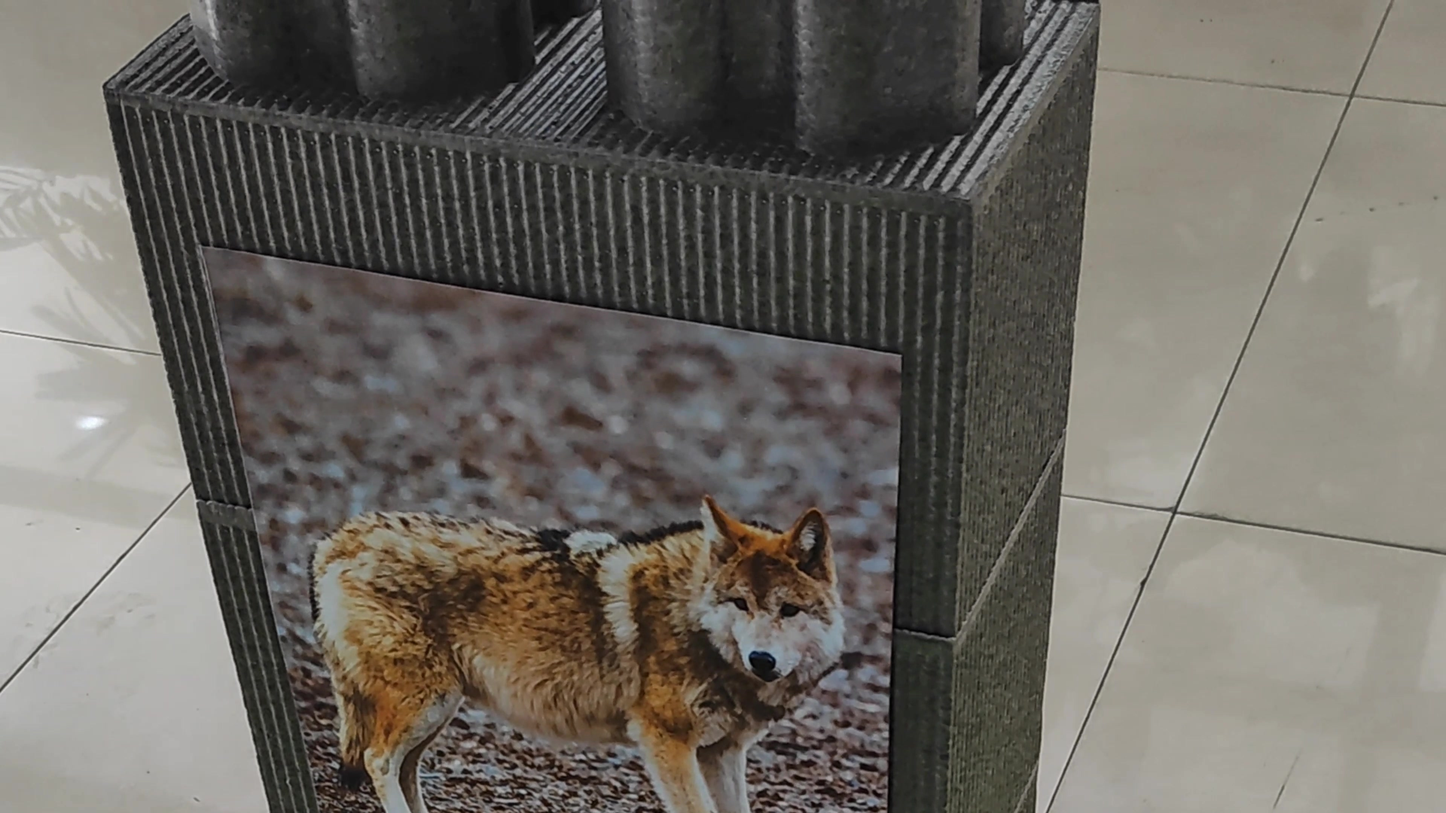wolf: (277, 436, 882, 807)
